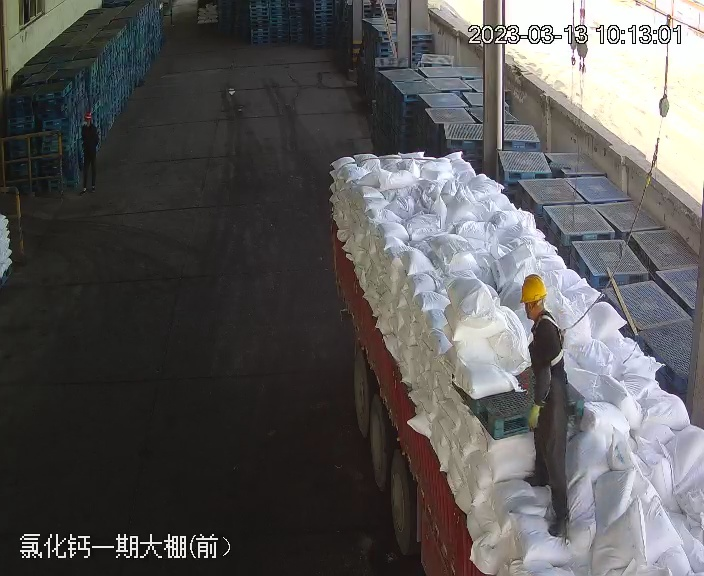belt: (535, 309, 572, 367)
head: (517, 273, 564, 347), (81, 111, 98, 133)
helmet: (519, 274, 548, 303), (84, 111, 92, 119)
people: (517, 266, 588, 539), (77, 111, 100, 195)
truck: (314, 143, 702, 576)
